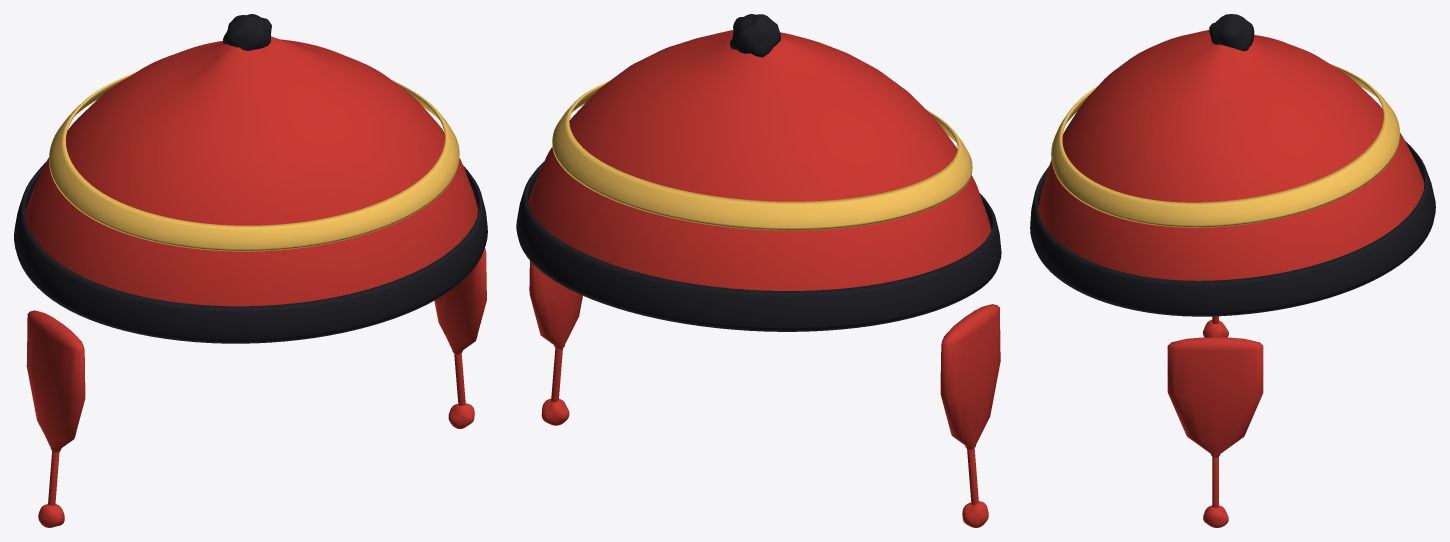
File: hw_chullo.glb
The picture shows the model from 3 angles, left to right: view 1: azimuth 30°, elevation 25°; view 2: azimuth 150°, elevation 25°; view 3: azimuth 270°, elevation 25°; orthographic projection. The views are drawn at different scales.
Visible parts, largest first — view 1: hw_chullo, hw_chullo_band, hw_chullo_band2, hw_chullo_flaps, hw_chullo_top; view 2: hw_chullo, hw_chullo_band, hw_chullo_band2, hw_chullo_flaps, hw_chullo_top; view 3: hw_chullo, hw_chullo_band, hw_chullo_band2, hw_chullo_flaps, hw_chullo_top.
Part boxes in pixels (x1=…): hw_chullo: x1=25, y1=36, x2=478, y2=306; hw_chullo_band: x1=14, y1=162, x2=487, y2=343; hw_chullo_band2: x1=49, y1=72, x2=459, y2=251; hw_chullo_flaps: x1=26, y1=248, x2=486, y2=527; hw_chullo_top: x1=223, y1=14, x2=271, y2=50; hw_chullo: x1=528, y1=30, x2=991, y2=290; hw_chullo_band: x1=516, y1=162, x2=1001, y2=331; hw_chullo_band2: x1=552, y1=81, x2=972, y2=230; hw_chullo_flaps: x1=529, y1=261, x2=1000, y2=527; hw_chullo_top: x1=730, y1=14, x2=780, y2=57; hw_chullo: x1=1038, y1=30, x2=1424, y2=280; hw_chullo_band: x1=1030, y1=141, x2=1435, y2=316; hw_chullo_band2: x1=1051, y1=63, x2=1400, y2=227; hw_chullo_flaps: x1=1167, y1=316, x2=1263, y2=527; hw_chullo_top: x1=1209, y1=14, x2=1254, y2=51.
Size of the model in its own units: 0.9434 by 0.9473 by 0.8307.
